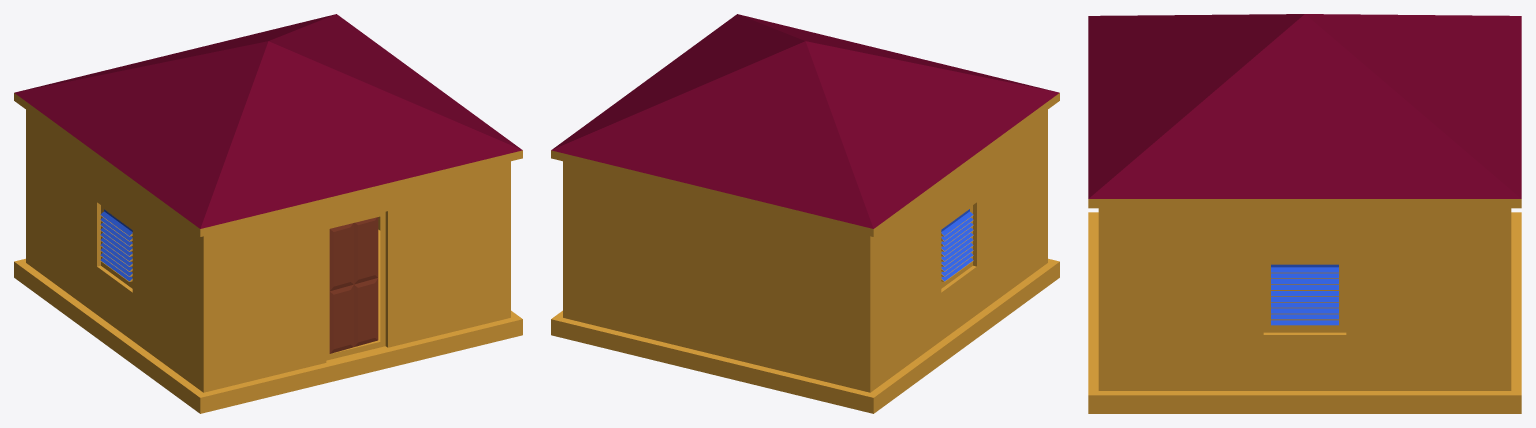
Rendered from house.glb.
The picture shows the model from 3 angles, left to right: view 1: azimuth 30°, elevation 25°; view 2: azimuth 150°, elevation 25°; view 3: azimuth 270°, elevation 25°; orthographic projection. The views are drawn at different scales.
Visible parts, largest first — view 1: building_001, building_001.004, door animation, window left animation; view 2: building_001, building_001.004, window left animation; view 3: building_001, building_001.004, window right animation.
Part boxes in pixels (x1,y1,x2,y2): building_001: [14, 93, 522, 413]; building_001.004: [14, 14, 522, 228]; door animation: [329, 217, 378, 353]; window left animation: [100, 209, 132, 281]; building_001: [551, 93, 1059, 413]; building_001.004: [551, 14, 1059, 228]; window left animation: [941, 209, 973, 281]; building_001: [1088, 199, 1521, 413]; building_001.004: [1088, 14, 1521, 198]; window right animation: [1271, 264, 1338, 325].
Size of the model in its own units: 4.2 by 3.3 by 4.2.
